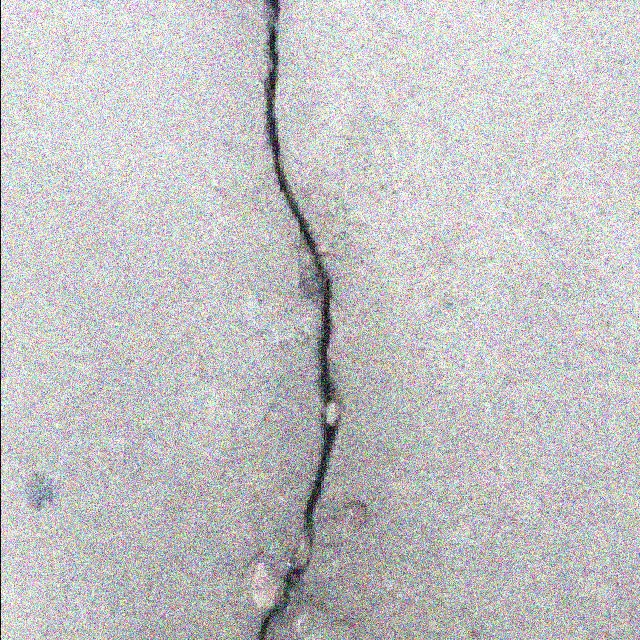SurfaceCrack: (250, 0, 374, 640)
